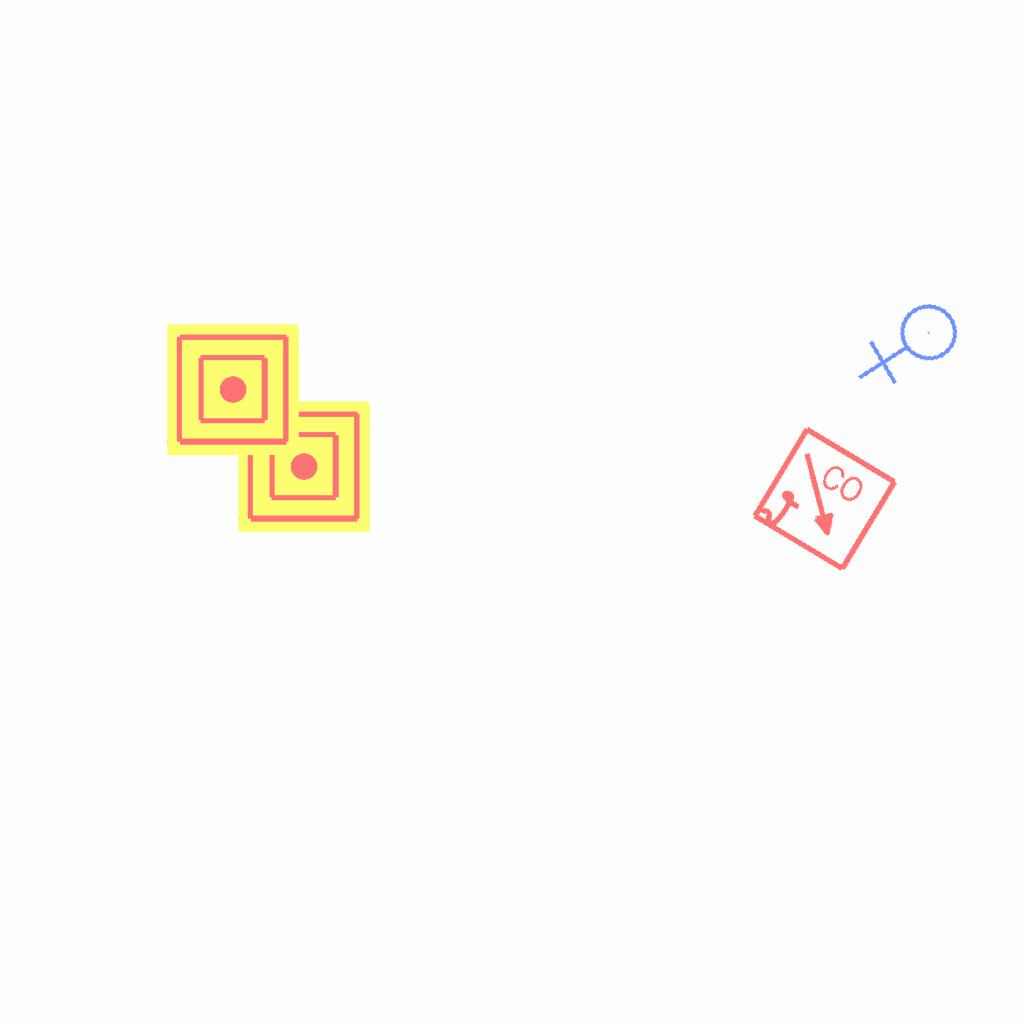Elektroanschluss_allgemein_230V_Geraeteanschlussdose_230V: (855, 291, 972, 403)
NAM-Nichtautomatischer_Melder: (238, 401, 370, 533), (167, 324, 299, 456)
ROA_Rauchmelder_optisch_mit_Signalgeber_(Sockelsirene): (746, 422, 903, 579)
